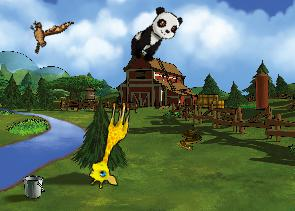eagle: (19, 3, 74, 62)
giraffe: (86, 97, 132, 191)
panda: (124, 2, 185, 69)
